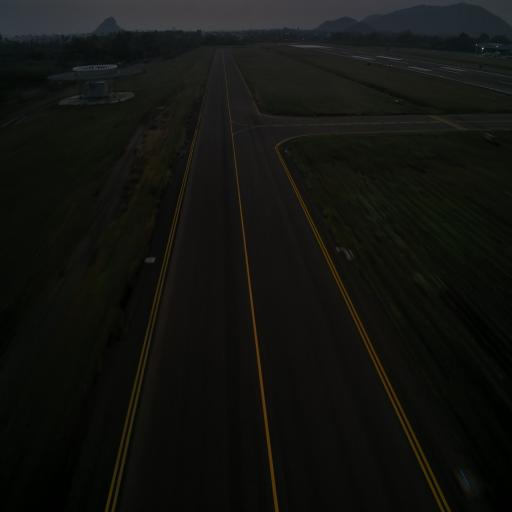on: (461, 463, 474, 496), (284, 145, 289, 154), (179, 151, 182, 158)
